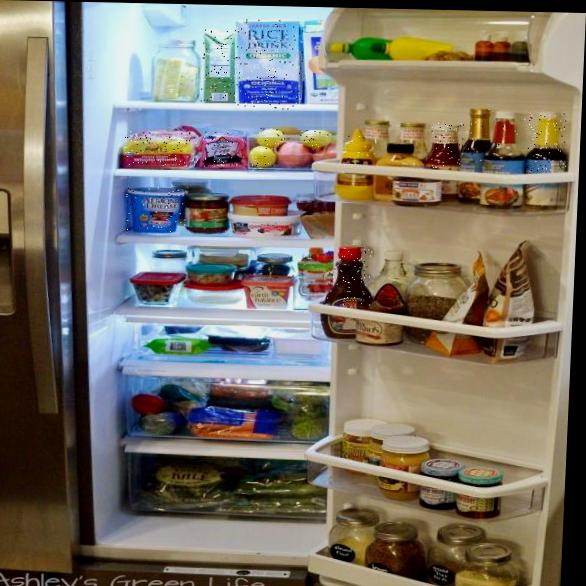apple: (278, 142, 312, 167)
bread: (123, 131, 199, 167), (202, 132, 247, 168)
lemon: (300, 130, 333, 149), (257, 128, 286, 146), (250, 147, 277, 166)
milk: (233, 19, 304, 110), (201, 29, 238, 102)
sauce: (326, 247, 373, 306), (527, 112, 569, 172), (489, 111, 526, 172), (463, 108, 492, 171), (430, 122, 464, 169), (342, 131, 378, 164)
yoghurt: (125, 187, 187, 232)
